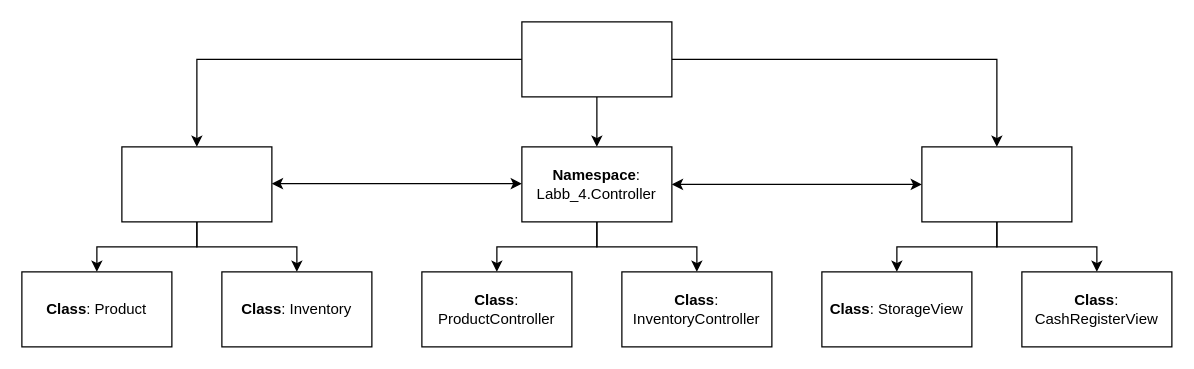
Some shapes in this 1194 by 369 pixel diagram are drawn without their labels. The centre of each missing label's shape, as x and y in pixels:
Namespace : Labb_4: (596,59)
Namespace : Labb_4.Model: (196,184)
Namespace : Labb_4.View: (996,184)
